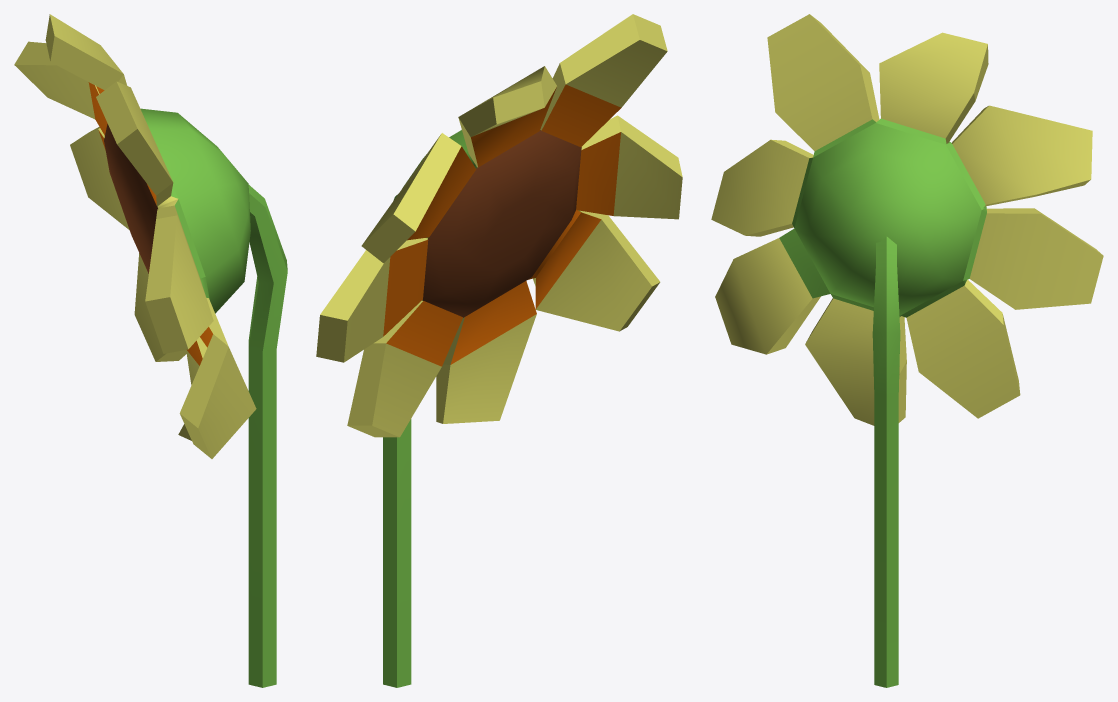
Rendered from sunflower3.fbx.
The picture shows the model from 3 angles, left to right: view 1: azimuth 30°, elevation 25°; view 2: azimuth 150°, elevation 25°; view 3: azimuth 270°, elevation 25°; orthographic projection. The views are drawn at different scales.
Visible parts, largest first — view 1: pCylinder7; view 2: pCylinder7; view 3: pCylinder7.
Part boxes in pixels (left/top/right/bottom): pCylinder7: left=14, top=14, right=287, bottom=687; pCylinder7: left=316, top=14, right=682, bottom=687; pCylinder7: left=711, top=14, right=1103, bottom=687.
Bounding box in the file's own units: 1.43 × 4 × 2.42.
